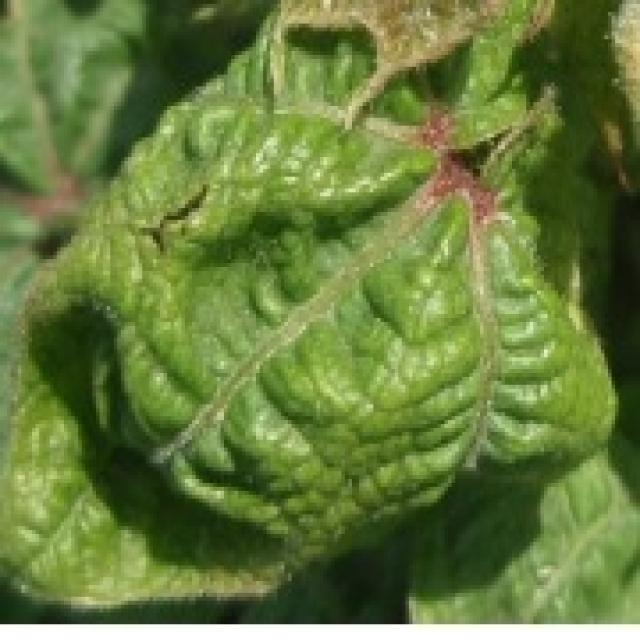Leaf Curl Virus: (218, 0, 552, 328)
